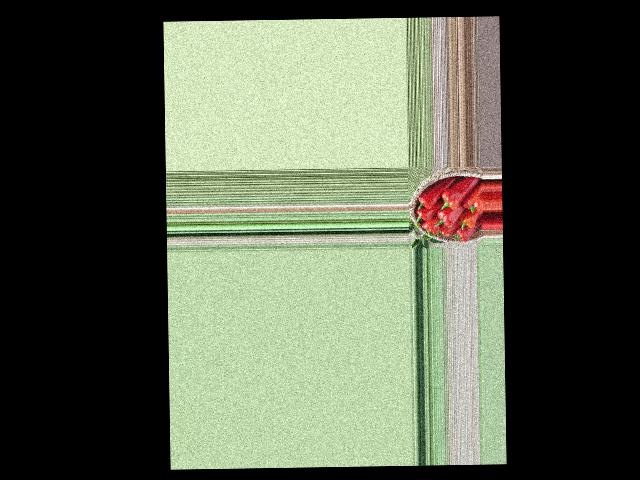bell_pepper: (413, 206, 434, 223)
